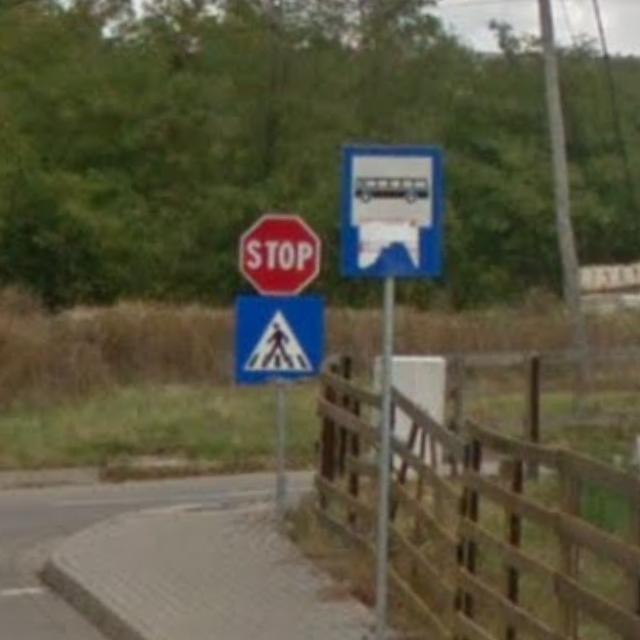info_crosswalk: (233, 294, 323, 383)
prio_stop: (237, 216, 321, 296)
